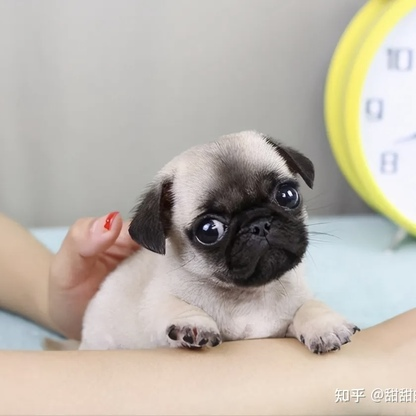Pug: (37, 129, 365, 366)
